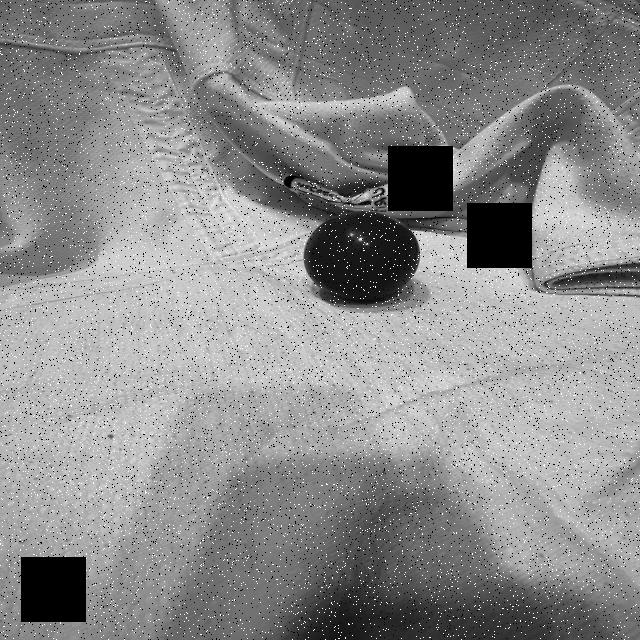ball: (300, 208, 422, 306)
